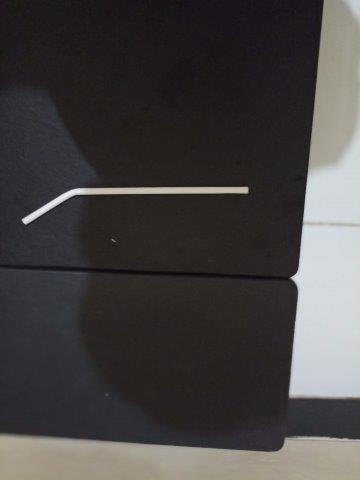sedotan: (21, 186, 248, 226)
